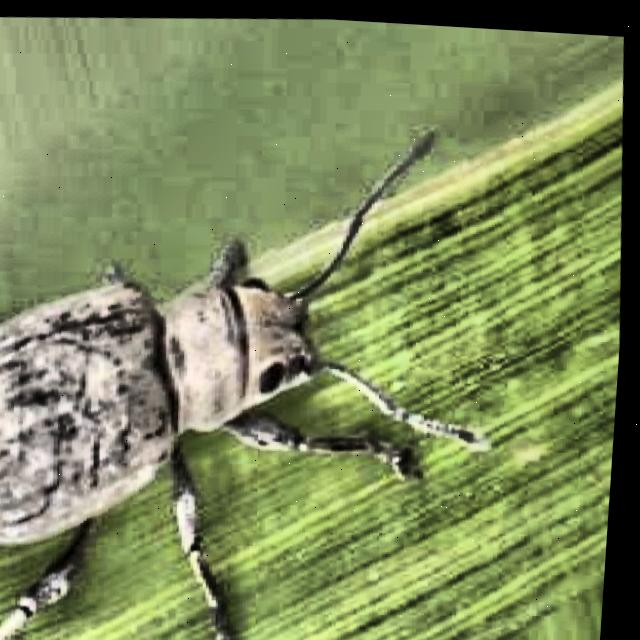Stink bug: (0, 155, 459, 640)
